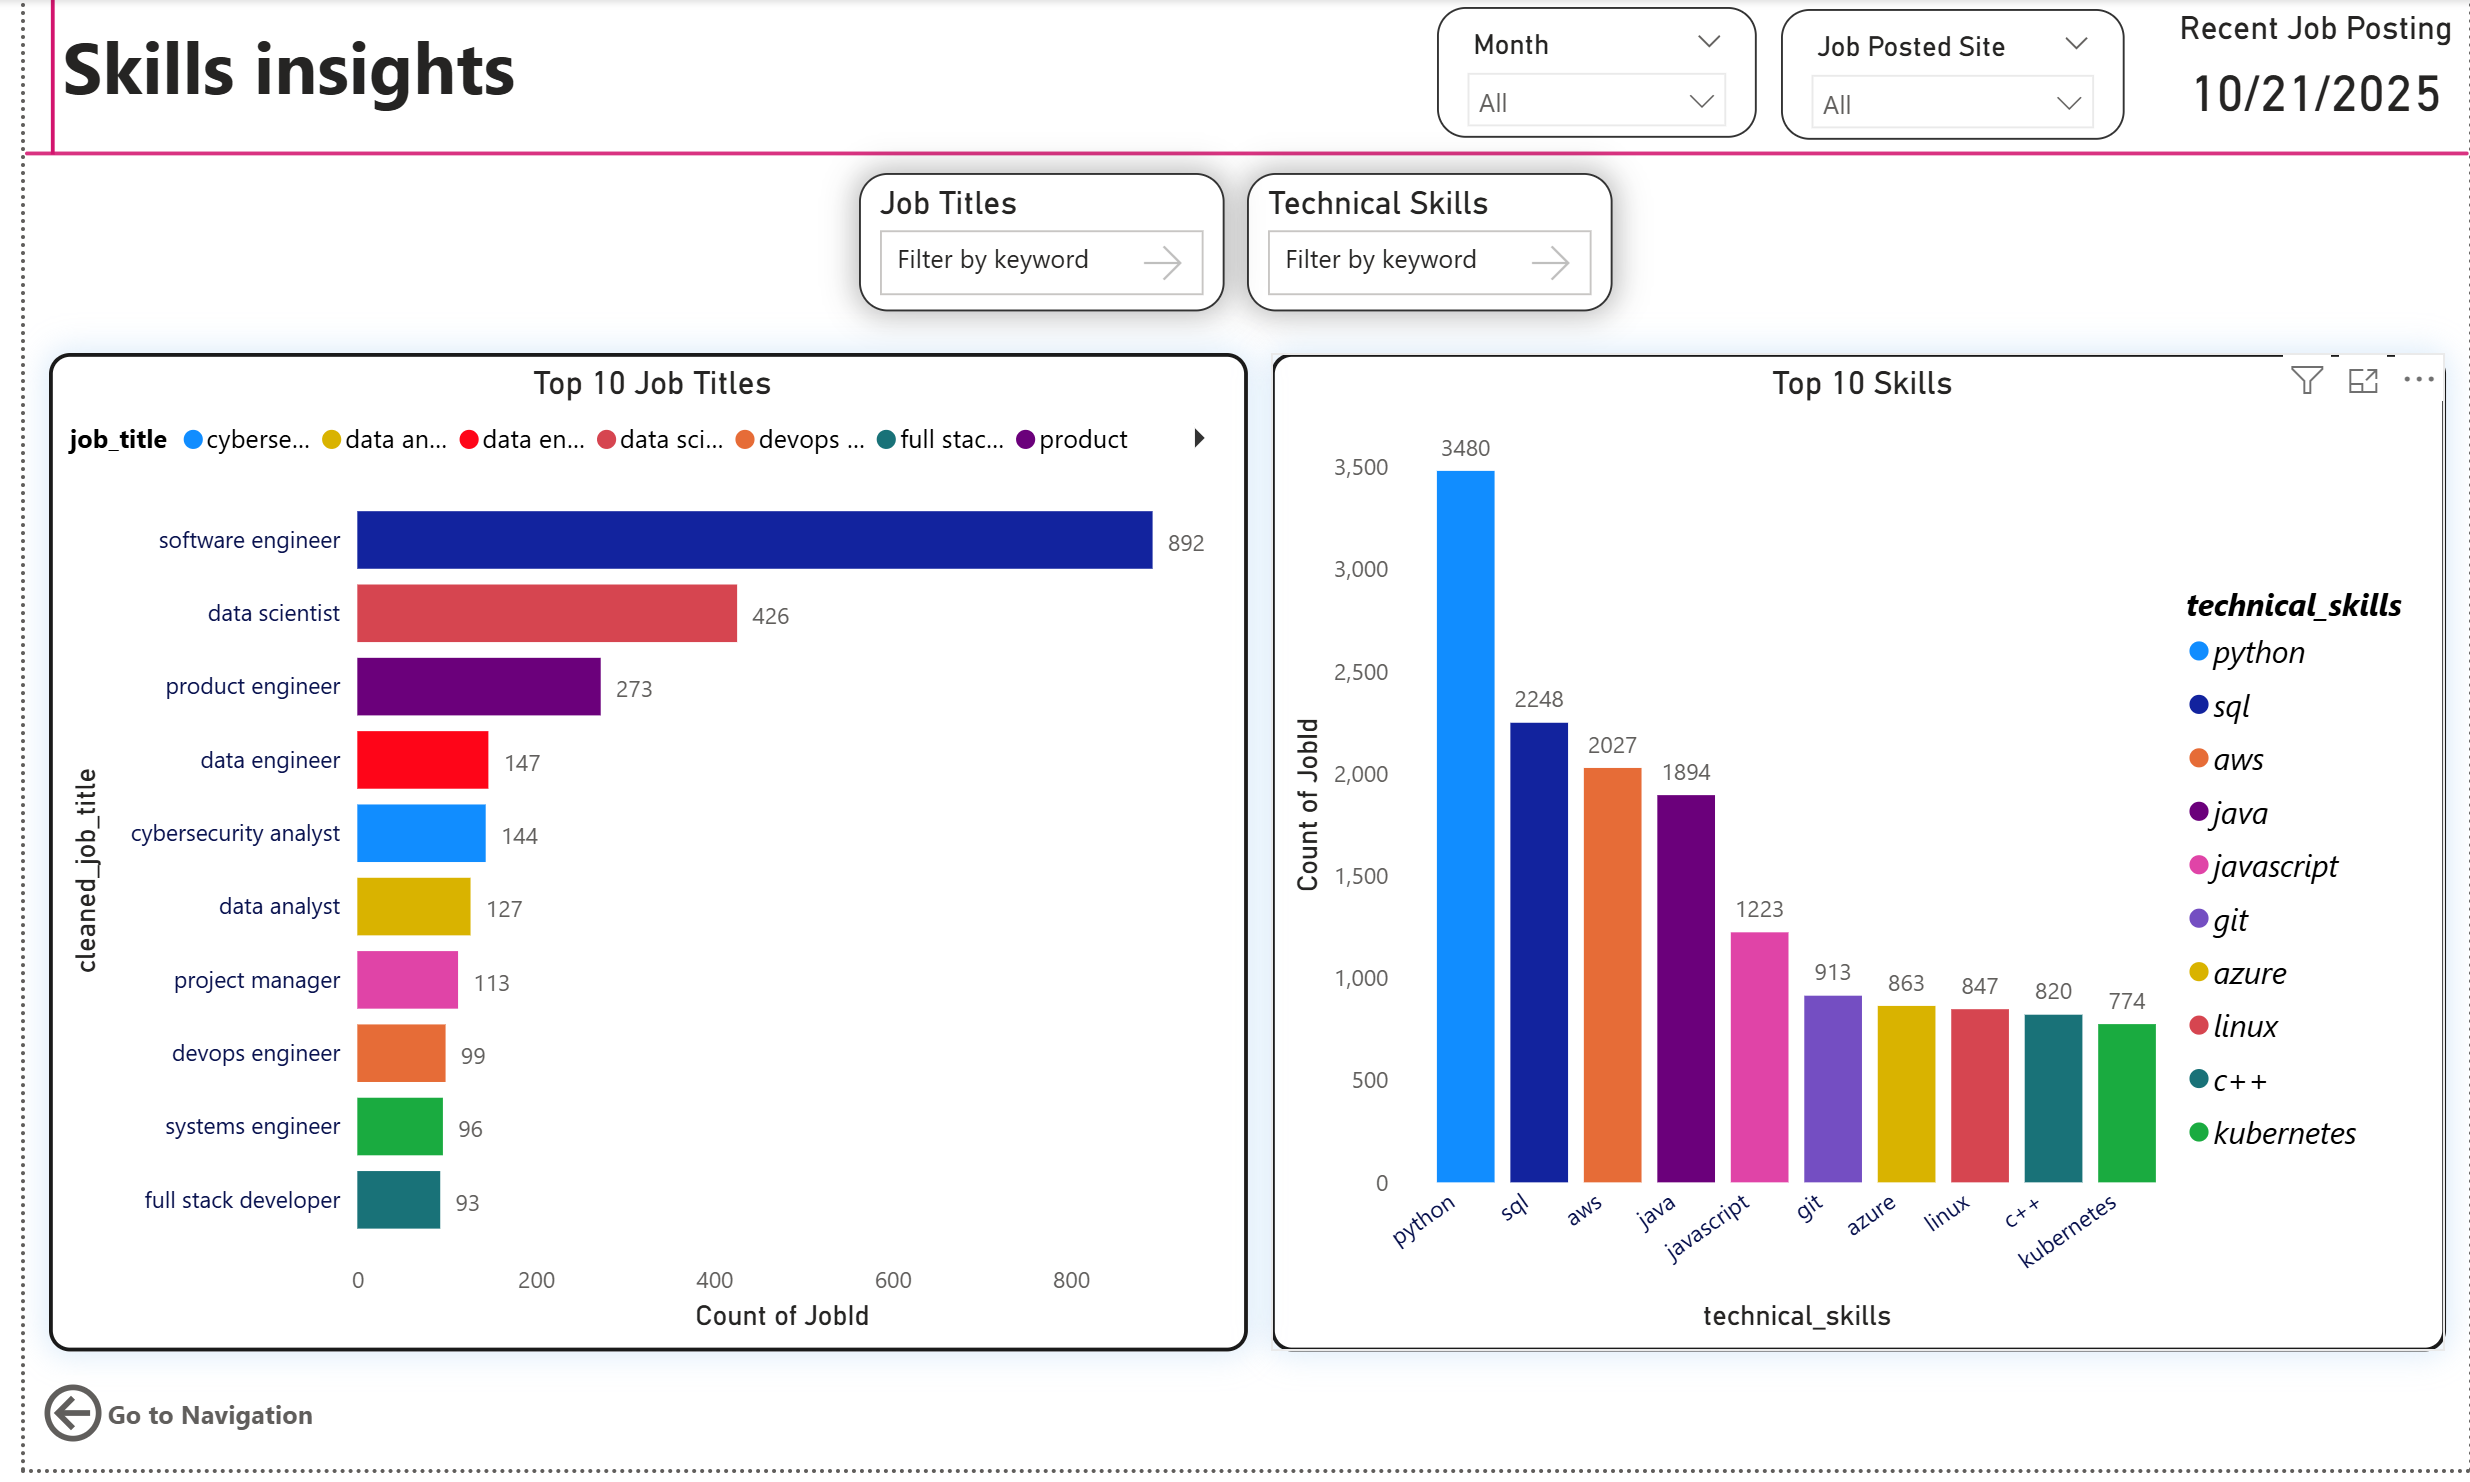

This screenshot's page, from the dashboard's own definition file:
{"tool":"powerbi","page":{"name":"Skills Insights","canvas":[1280,770],"ordinal":2},"visuals":[{"type":"shape","box":[0,70,1280,21.4],"z":0},{"type":"textbox","box":[15.1,4.7,260.7,61.7],"z":2000},{"type":"shape","box":[0,0,29.1,81.5],"z":3000},{"type":"card","title":"Recent Job Posting","fields":{"Values":["job_data.Recent job date"]},"box":[1120.1,4.9,160.2,66],"z":4000},{"type":"slicer","fields":{"Values":["job_data.job_posted_site"]},"box":[919.6,4.9,179.8,68.5],"z":5000},{"type":"slicer","fields":{"Values":["job_data.job_posted_date.Variation.Date Hierarchy.Month","job_data.job_posted_date.Variation.Date Hierarchy.Day"]},"box":[740.1,4.7,167.6,68.7],"z":6000},{"type":"textSlicer","title":"Technical Skills","fields":{"Values":["jobskills.technical_skills"]},"box":[640.2,91,191.3,72.5],"z":7000},{"type":"columnChart","title":"Top 10 Skills","fields":{"Category":["jobskills.technical_skills"],"Series":["jobskills.technical_skills"],"Y":["CountNonNull(jobskills.JobId)"]},"box":[652.5,185.1,615.5,522.9],"z":8000},{"type":"textSlicer","title":"Job Titles","fields":{"Values":["jobskills.job_title"]},"box":[436.5,91,191.3,72.5],"z":9000},{"type":"barChart","title":"Top 10 Job Titles","fields":{"Category":["job_data.cleaned_job_title"],"Series":["job_data.job_title"],"Y":["CountNonNull(job_data.JobId)"]},"box":[12.3,185.1,627.8,522.9],"z":10000},{"type":"actionButton","box":[5.5,721,149.7,39.8],"z":11000}]}

Visuals, with their boxes in screenshot pixels (x1, y1, x2, y2), scaled from the page's 1280x770 canvas onto the 2470x1482 screenshot:
shape: bbox(0, 135, 2469, 176)
textbox: bbox(29, 9, 532, 128)
shape: bbox(0, 0, 56, 157)
"Recent Job Posting" card: bbox(2161, 9, 2469, 136)
slicer - job_data.job_posted_site: bbox(1775, 9, 2121, 141)
slicer - job_data.job_posted_date.Variation.Date Hierarchy.Month x job_data.job_posted_date.Variation.Date Hierarchy.Day: bbox(1428, 9, 1752, 141)
"Technical Skills" textSlicer: bbox(1235, 175, 1605, 315)
"Top 10 Skills" columnChart: bbox(1259, 356, 2447, 1363)
"Job Titles" textSlicer: bbox(842, 175, 1211, 315)
"Top 10 Job Titles" barChart: bbox(24, 356, 1235, 1363)
actionButton: bbox(11, 1388, 299, 1464)
